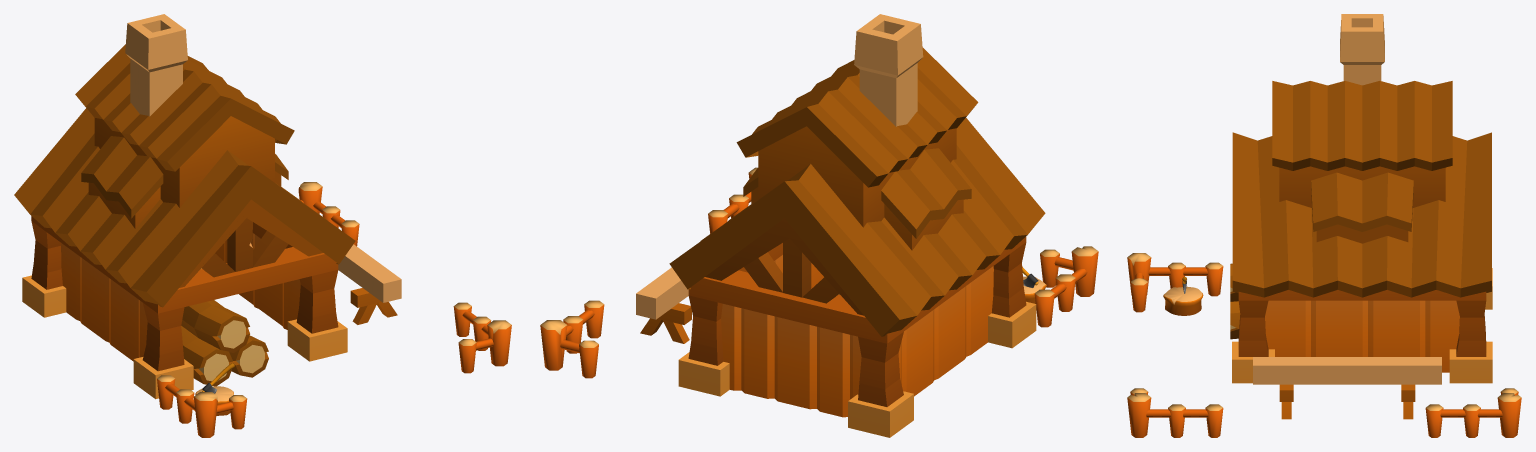
The model's file is Structure_Lumber_Mill_lvl01.fbx.
3 views of the same model, side by side, from view 1: azimuth 30°, elevation 25°; view 2: azimuth 150°, elevation 25°; view 3: azimuth 270°, elevation 25° (orthographic). The views are drawn at different scales.
Parts seen in each view (by area): view 1: Structure_Lumber_Mill_lvl01; view 2: Structure_Lumber_Mill_lvl01; view 3: Structure_Lumber_Mill_lvl01.
Part boxes in pixels (left/top/right/bottom): Structure_Lumber_Mill_lvl01: left=14, top=14, right=511, bottom=437; Structure_Lumber_Mill_lvl01: left=540, top=14, right=1098, bottom=437; Structure_Lumber_Mill_lvl01: left=1127, top=14, right=1521, bottom=437.
Size of the model in its own units: 894 by 841 by 992.
